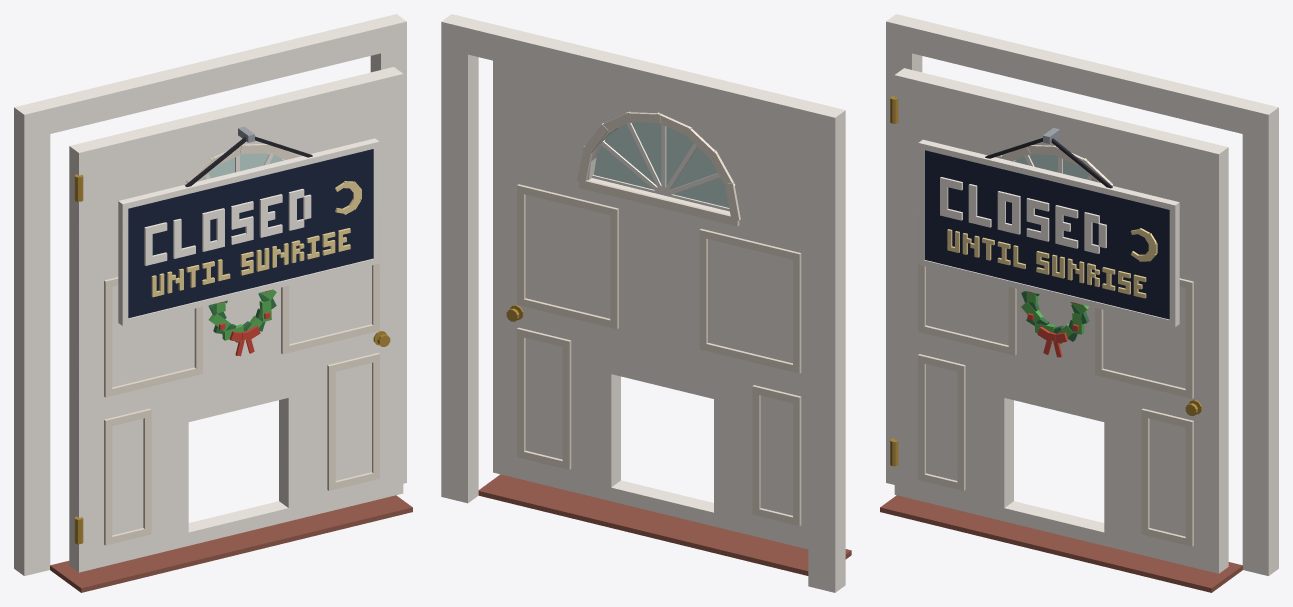
File: CatCafe_Door_FrontPorch_Back.glb
The picture shows the model from 3 angles, left to right: view 1: azimuth 30°, elevation 25°; view 2: azimuth 150°, elevation 25°; view 3: azimuth 330°, elevation 25°; orthographic projection. The views are drawn at different scales.
Visible parts, largest first — view 1: CatCafe_Door_FrontPorch_Back_Leaf, CatCafe_Door_FrontPorch_Back, CatCafe_Door_FrontPorch_Back_Sign, CatCafe_Door_FrontPorch_Back_Sign_Bulb, CatCafe_Door_FrontPorch_Back_Leaf_Glass; view 2: CatCafe_Door_FrontPorch_Back_Leaf, CatCafe_Door_FrontPorch_Back, CatCafe_Door_FrontPorch_Back_Leaf_Glass; view 3: CatCafe_Door_FrontPorch_Back_Leaf, CatCafe_Door_FrontPorch_Back, CatCafe_Door_FrontPorch_Back_Sign, CatCafe_Door_FrontPorch_Back_Sign_Bulb, CatCafe_Door_FrontPorch_Back_Leaf_Glass.
Part boxes in pixels (x1=…): CatCafe_Door_FrontPorch_Back_Leaf: x1=69, y1=67, x2=403, y2=572; CatCafe_Door_FrontPorch_Back: x1=14, y1=14, x2=412, y2=592; CatCafe_Door_FrontPorch_Back_Sign: x1=118, y1=126, x2=379, y2=325; CatCafe_Door_FrontPorch_Back_Sign_Bulb: x1=144, y1=181, x2=361, y2=297; CatCafe_Door_FrontPorch_Back_Leaf_Glass: x1=201, y1=153, x2=283, y2=180; CatCafe_Door_FrontPorch_Back_Leaf: x1=493, y1=60, x2=808, y2=549; CatCafe_Door_FrontPorch_Back: x1=441, y1=14, x2=851, y2=592; CatCafe_Door_FrontPorch_Back_Leaf_Glass: x1=594, y1=122, x2=728, y2=207; CatCafe_Door_FrontPorch_Back_Leaf: x1=890, y1=68, x2=1228, y2=573; CatCafe_Door_FrontPorch_Back: x1=880, y1=14, x2=1278, y2=592; CatCafe_Door_FrontPorch_Back_Sign: x1=918, y1=128, x2=1179, y2=327; CatCafe_Door_FrontPorch_Back_Sign_Bulb: x1=940, y1=177, x2=1157, y2=298; CatCafe_Door_FrontPorch_Back_Leaf_Glass: x1=1014, y1=154, x2=1096, y2=181.
Bounding box in the file's own units: 6.9 × 7.95 × 1.37.
1 material, 1 textured.
